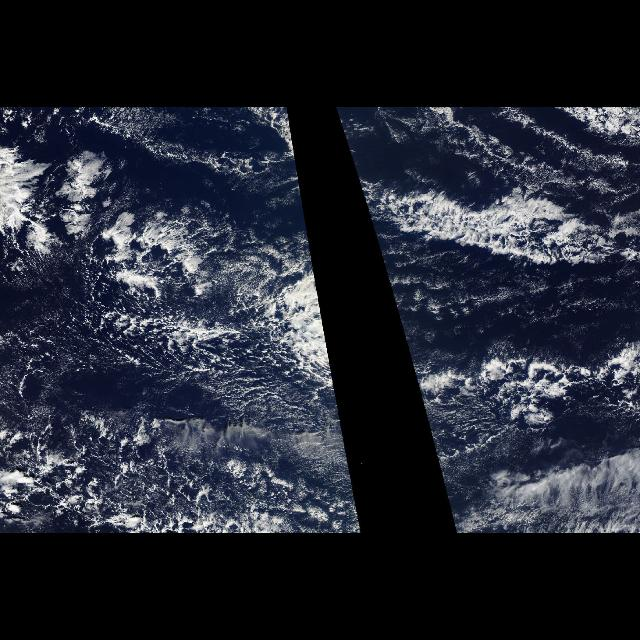Fish: (26, 131, 348, 455), (336, 117, 640, 456)
Gravel: (5, 410, 325, 532)
Sugar: (11, 116, 356, 534), (408, 352, 530, 498)
